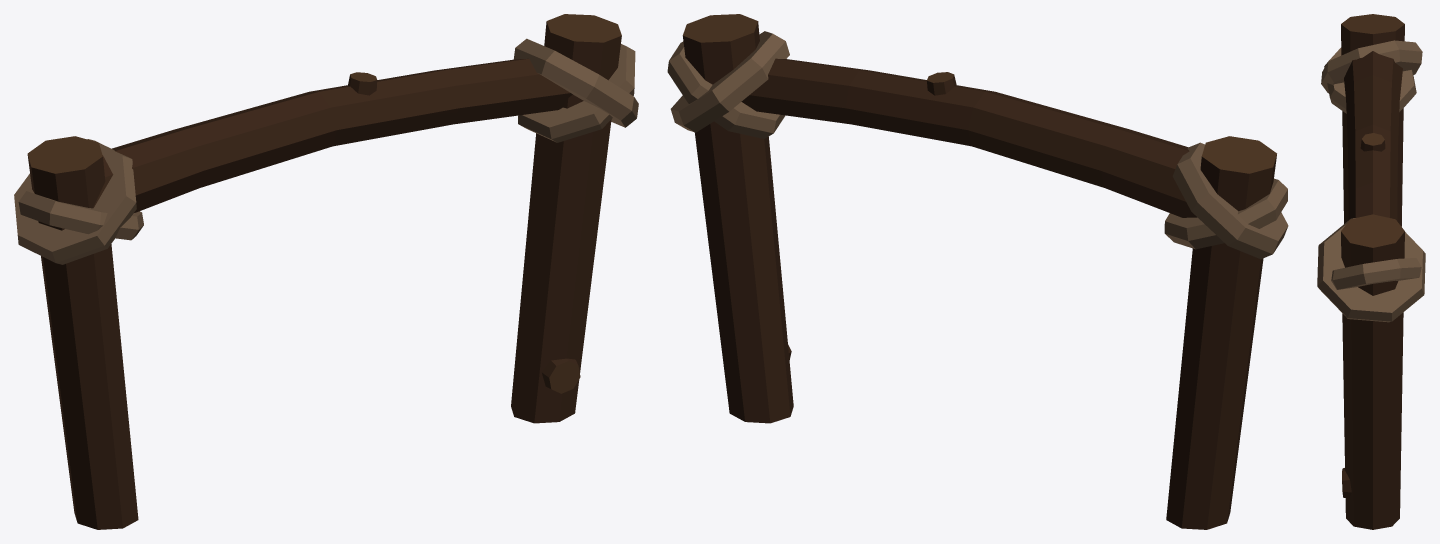
The model's file is Tribal_Plains_Post_Column_Arch_Wood_Timber_04.fbx.
3 views of the same model, side by side, from view 1: azimuth 30°, elevation 25°; view 2: azimuth 150°, elevation 25°; view 3: azimuth 270°, elevation 25° (orthographic). The views are drawn at different scales.
Parts seen in each view (by area): view 1: Tribal_Plains_Post_Column_Arch_Wood_Timber_04; view 2: Tribal_Plains_Post_Column_Arch_Wood_Timber_04; view 3: Tribal_Plains_Post_Column_Arch_Wood_Timber_04.
Part boxes in pixels (x1,y1,x2,y2): Tribal_Plains_Post_Column_Arch_Wood_Timber_04: (14,14,638,529); Tribal_Plains_Post_Column_Arch_Wood_Timber_04: (667,14,1288,529); Tribal_Plains_Post_Column_Arch_Wood_Timber_04: (1317,14,1425,529).
Size of the model in its own units: 7.18 by 4.26 by 1.36.
